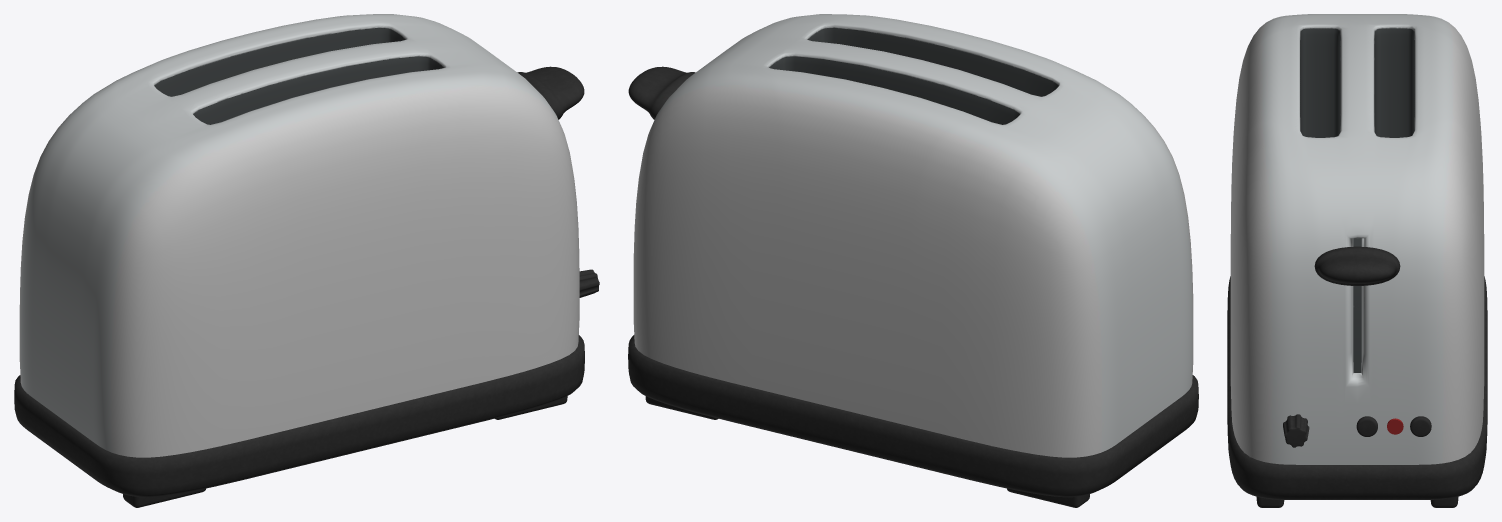
File: tostador 08 GLB (1).glb
3 renders of one model, left to right at view 1: azimuth 30°, elevation 25°; view 2: azimuth 150°, elevation 25°; view 3: azimuth 270°, elevation 25°, orthographic. The views are drawn at different scales.
Parts seen in each view (by area): view 1: Cube, Cube.001, Cube.002; view 2: Cube, Cube.001, Cube.002; view 3: Cube, Cube.001, Cylinder, Cube.002, Cylinder.001, Cylinder.003.
Boxes of the visible parts, x1,y1,x2,y2 form: Cube: [14, 14, 584, 497]; Cube.001: [517, 66, 584, 119]; Cube.002: [123, 396, 567, 507]; Cube: [628, 14, 1198, 497]; Cube.001: [628, 66, 695, 119]; Cube.002: [645, 396, 1089, 507]; Cube: [1227, 14, 1487, 499]; Cube.001: [1314, 246, 1400, 285]; Cylinder: [1283, 414, 1309, 447]; Cube.002: [1256, 496, 1458, 507]; Cylinder.001: [1356, 416, 1377, 436]; Cylinder.003: [1410, 416, 1431, 436].
Size of the model in its own units: 334 by 219 by 153.
Materials: 1 (1 with a texture image).
